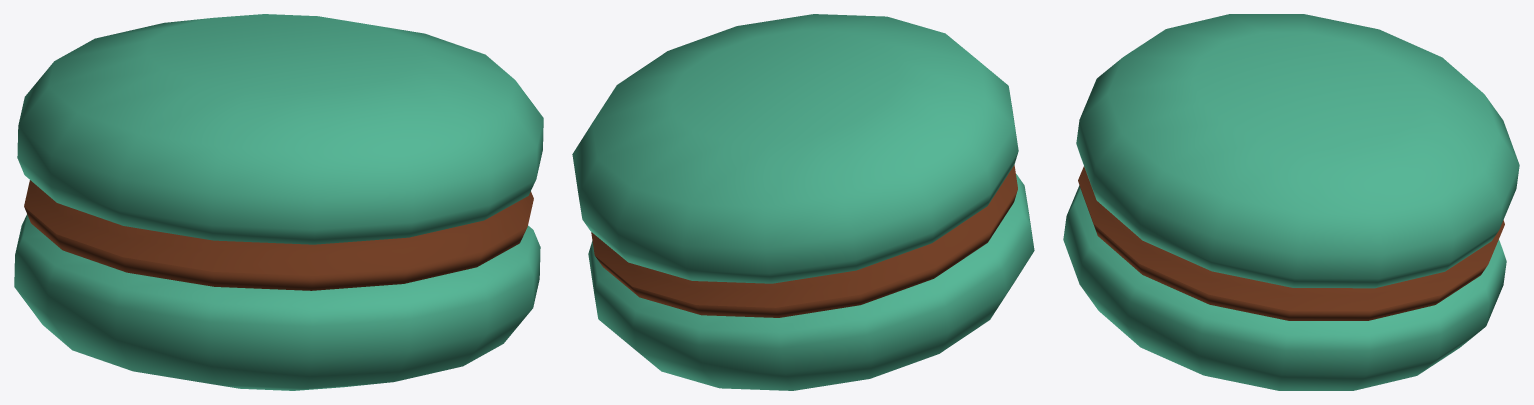
File: SM_macaron_07.glb
3 renders of one model, left to right at view 1: azimuth 30°, elevation 25°; view 2: azimuth 150°, elevation 25°; view 3: azimuth 270°, elevation 25°, orthographic. The views are drawn at different scales.
Parts seen in each view (by area): view 1: SM_macaron_07; view 2: SM_macaron_07; view 3: SM_macaron_07.
Part boxes in pixels (x1,y1,x2,y2): SM_macaron_07: (14,14,543,390); SM_macaron_07: (572,14,1034,390); SM_macaron_07: (1063,14,1519,390).
Size of the model in its own units: 0.0929 by 0.0596 by 0.0933.
1 material, 1 textured.
